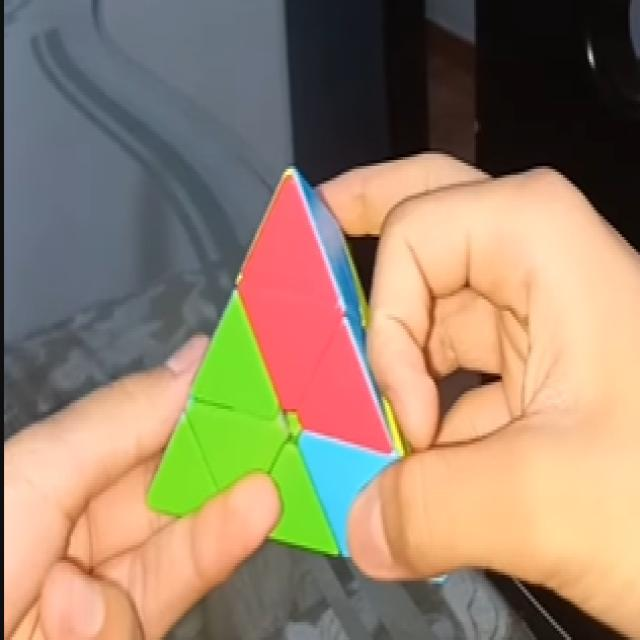Pyraminx: (148, 169, 403, 554)
